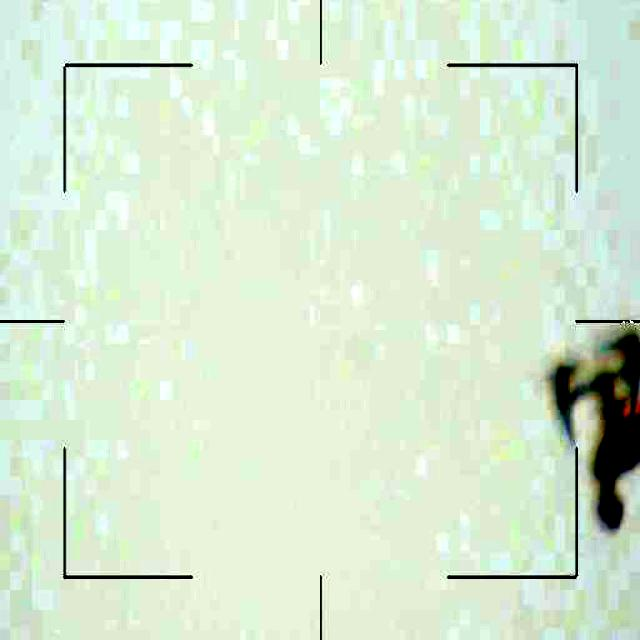bird: (538, 320, 640, 531)
